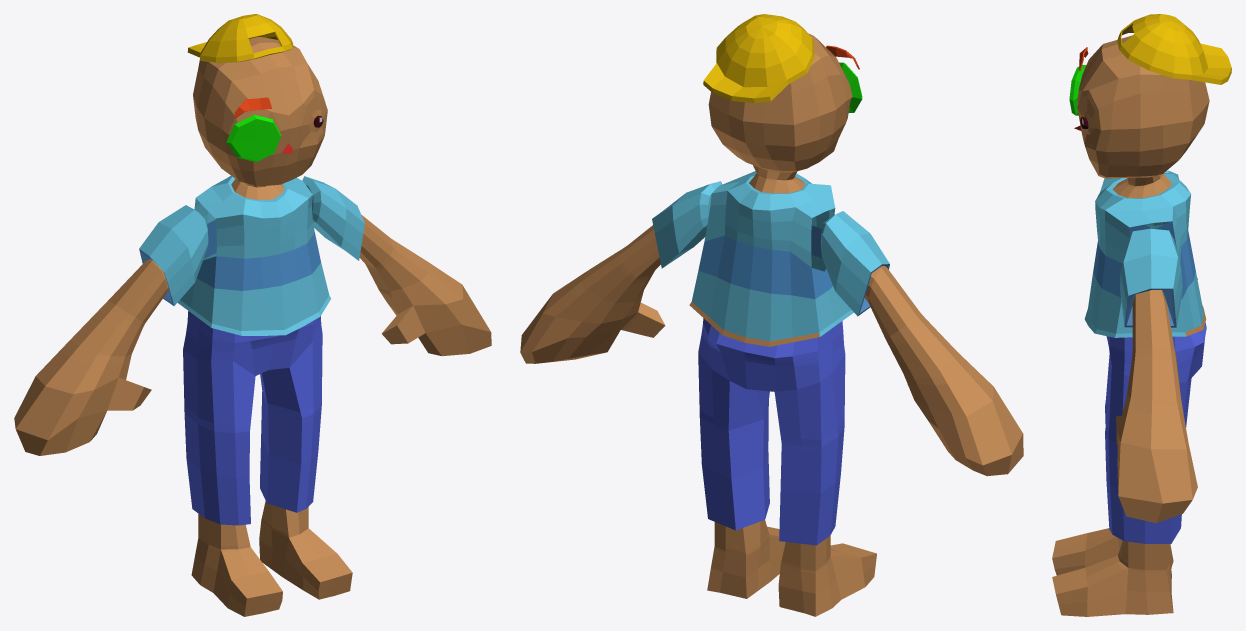
File: stick together hand models.fbx
3 renders of one model, left to right at view 1: azimuth 30°, elevation 25°; view 2: azimuth 150°, elevation 25°; view 3: azimuth 270°, elevation 25°, orthographic. The views are drawn at different scales.
Parts seen in each view (by area): view 1: hat.001, Arm.L, Arm.R, hat; view 2: hat.001, Arm.L, Arm.R, hat; view 3: hat.001, Arm.R, hat.
Part boxes in pixels (bbox=[...]): hat.001: bbox=[177, 37, 352, 616]; Arm.L: bbox=[14, 205, 208, 455]; Arm.R: bbox=[302, 176, 491, 356]; hat: bbox=[187, 14, 292, 62]; hat.001: bbox=[689, 33, 876, 616]; Arm.L: bbox=[821, 211, 1023, 476]; Arm.R: bbox=[520, 181, 722, 363]; hat: bbox=[703, 14, 814, 103]; hat.001: bbox=[1052, 35, 1209, 616]; Arm.R: bbox=[1116, 228, 1197, 523]; hat: bbox=[1117, 14, 1231, 84].
Size of the model in its own units: 112 by 347 by 394.
